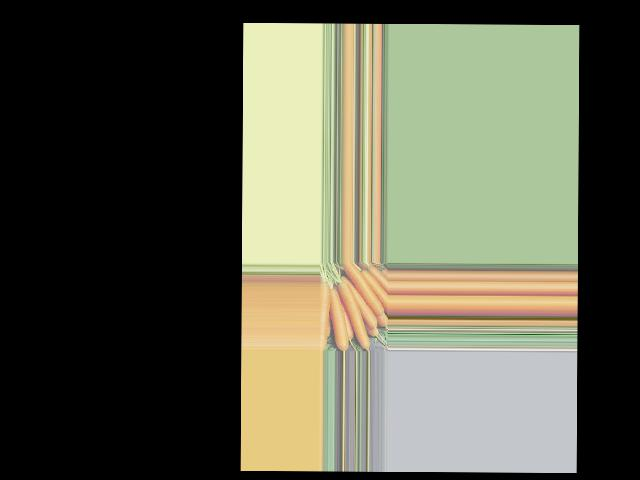carrot: (342, 263, 385, 316)
